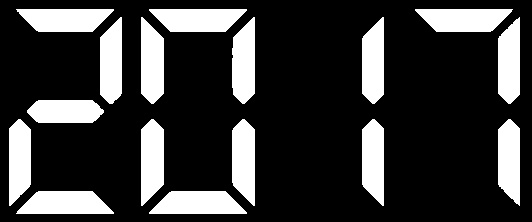one: (360, 15, 385, 208)
seven: (412, 7, 522, 207)
two: (8, 5, 123, 216)
zero: (139, 8, 258, 214)
